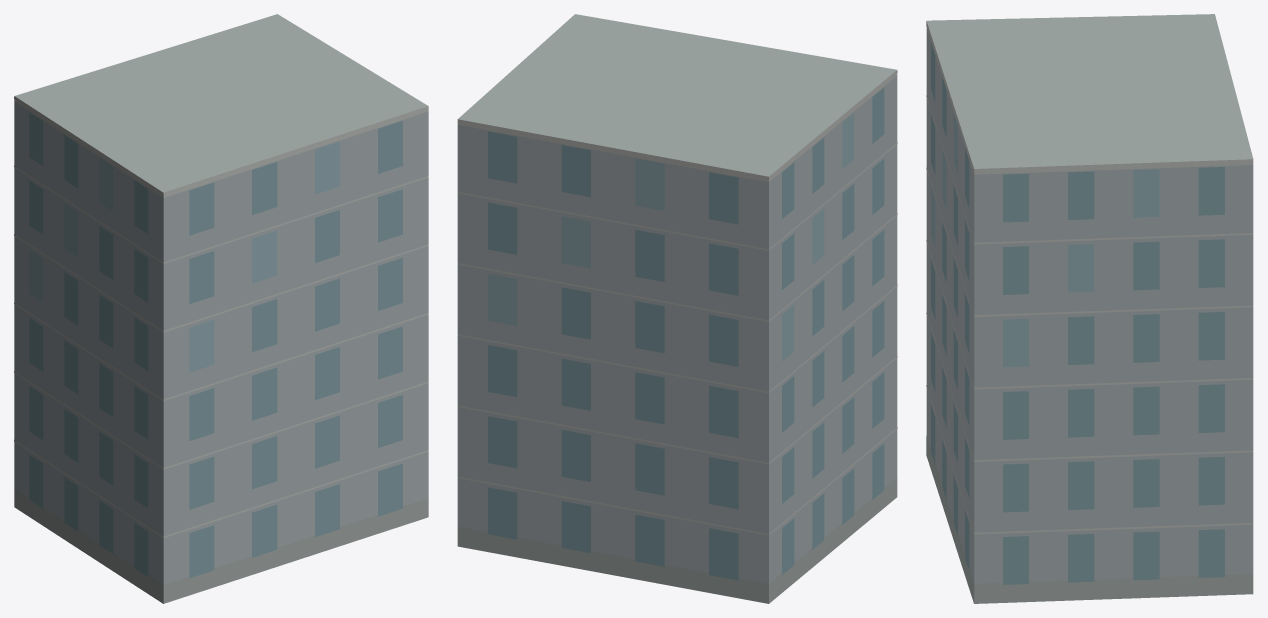
The model's file is survey-upis-33013039.glb.
3 views of the same model, side by side, from view 1: azimuth 30°, elevation 25°; view 2: azimuth 150°, elevation 25°; view 3: azimuth 270°, elevation 25° (orthographic). The views are drawn at different scales.
Visible parts, largest first — view 1: survey-upis-33013039.tmp; view 2: survey-upis-33013039.tmp; view 3: survey-upis-33013039.tmp.
Boxes of the visible parts, x1,y1,x2,y2 form: survey-upis-33013039.tmp: (14, 14, 428, 603); survey-upis-33013039.tmp: (457, 14, 897, 603); survey-upis-33013039.tmp: (926, 14, 1253, 603).
Size of the model in its own units: 14.17 by 18.5 by 12.63.
